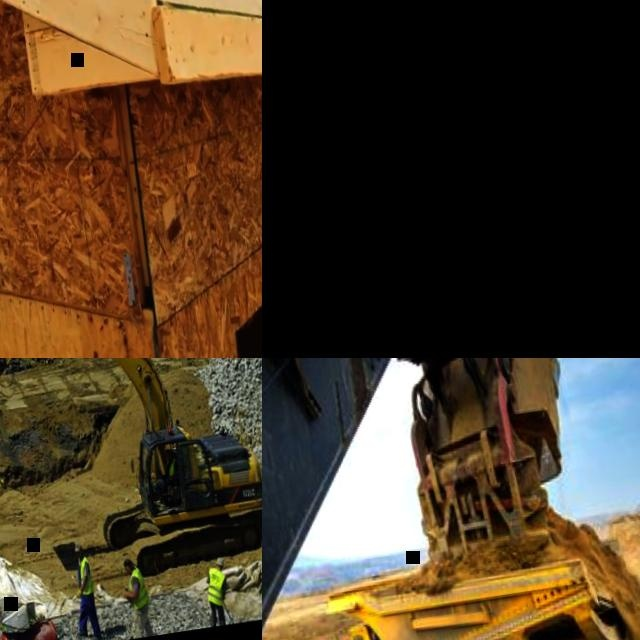Hardhat: (217, 555, 226, 564)
NO-Hardhat: (75, 541, 84, 552), (124, 556, 133, 564), (167, 448, 174, 454)
NO-Mask: (128, 568, 134, 574), (79, 553, 85, 557)
Person: (66, 539, 104, 640), (118, 553, 160, 639), (202, 553, 235, 626), (152, 447, 183, 495)
Safety Vest: (128, 566, 153, 611), (207, 565, 231, 605), (75, 556, 98, 595), (166, 459, 180, 477)
machinery: (262, 358, 640, 640), (0, 358, 262, 594), (314, 524, 640, 640)
